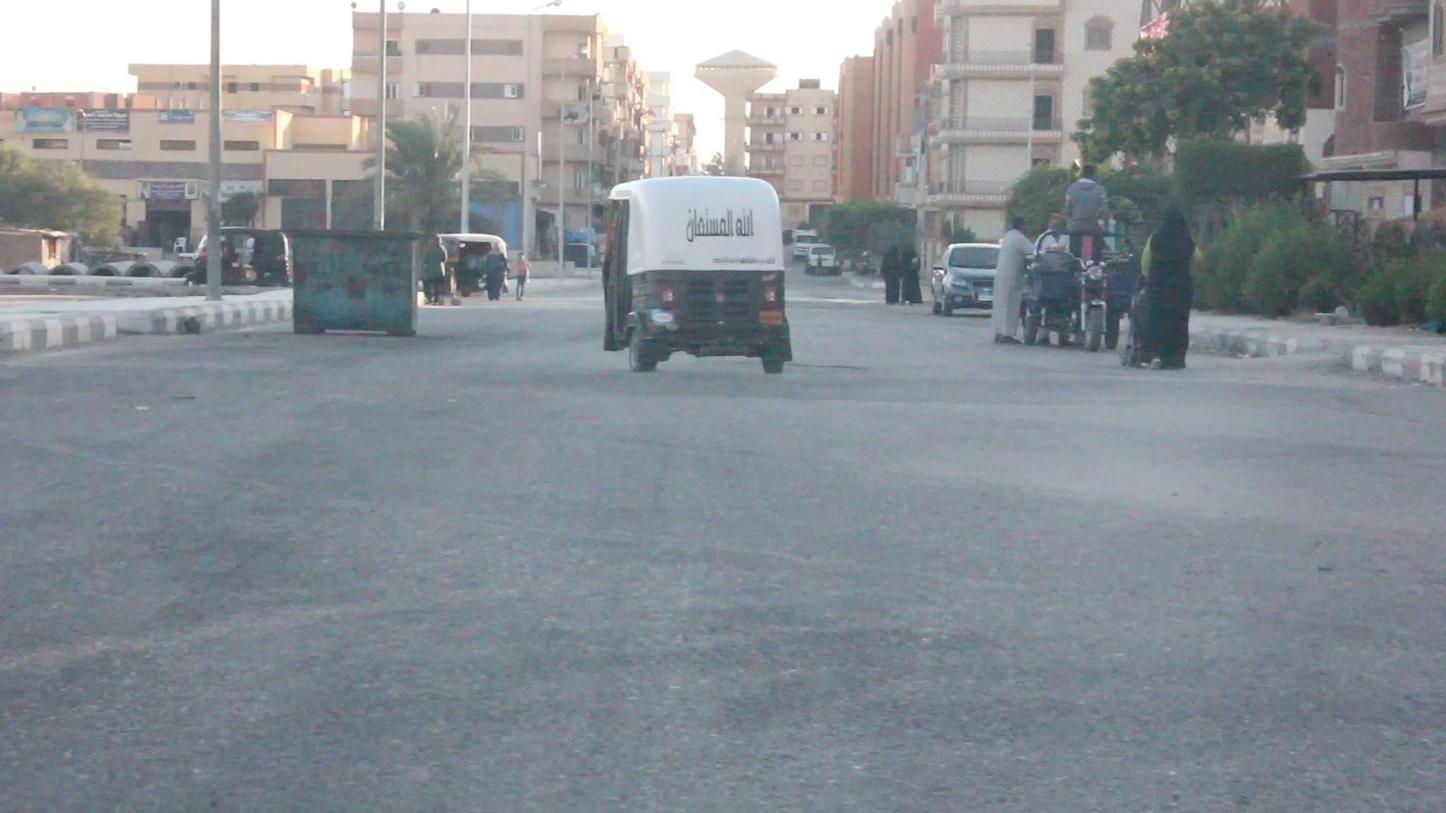Bump: (0, 365, 1378, 414)
